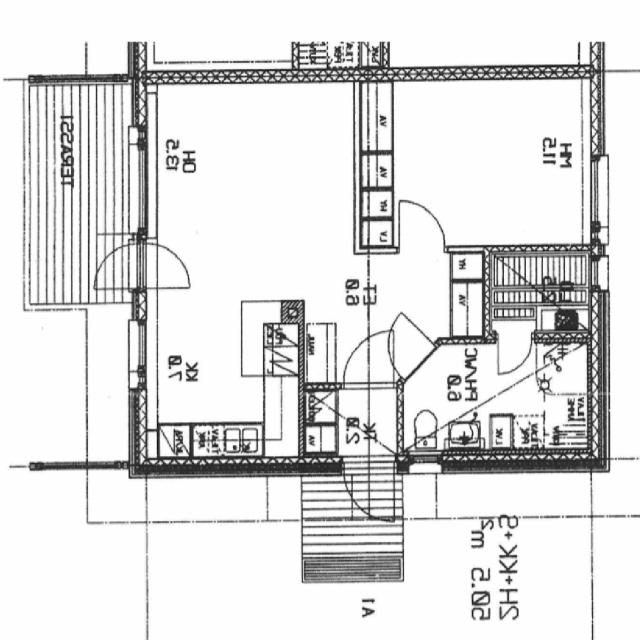door: (367, 312, 436, 382), (342, 456, 395, 524), (342, 328, 393, 387), (84, 241, 145, 289), (130, 241, 191, 289), (399, 198, 445, 253), (500, 335, 538, 384)
